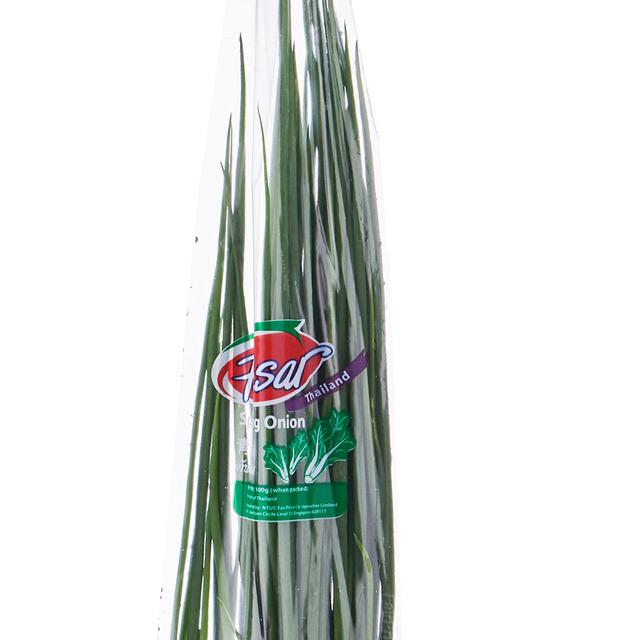green_onion: (98, 0, 511, 640)
